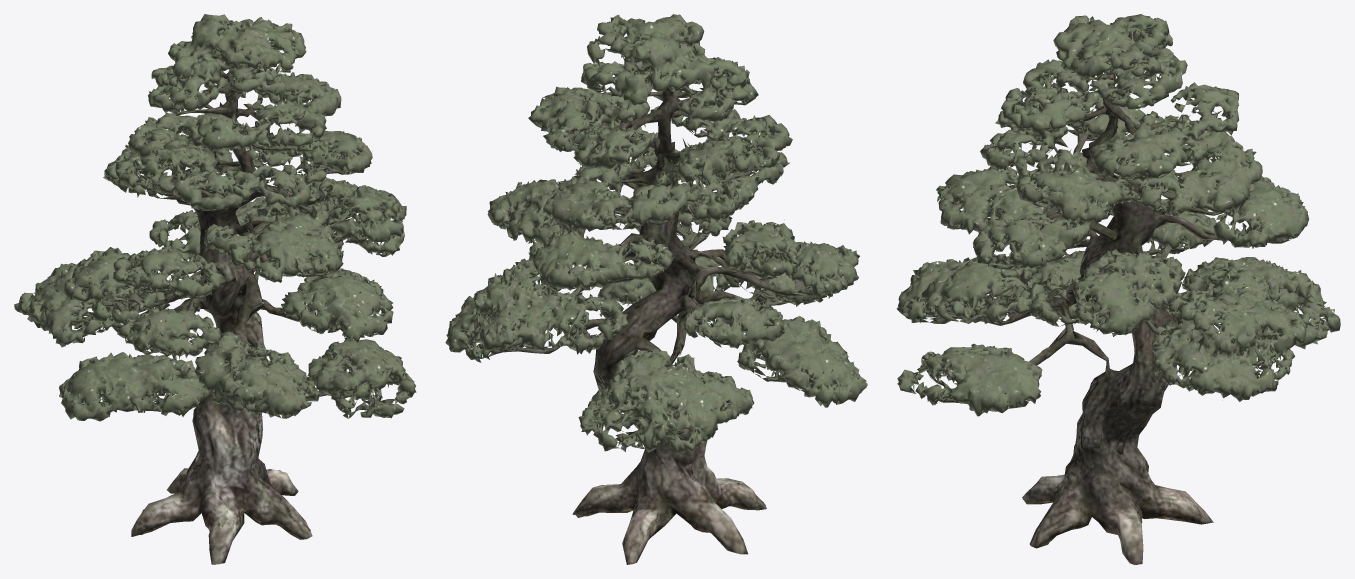
Rendered from pine.0.glb.
The picture shows the model from 3 angles, left to right: view 1: azimuth 30°, elevation 25°; view 2: azimuth 150°, elevation 25°; view 3: azimuth 270°, elevation 25°; orthographic projection. The views are drawn at different scales.
Visible parts, largest first — view 1: geometry_0; view 2: geometry_0; view 3: geometry_0.
Boxes of the visible parts, left/top/right/bottom form: geometry_0: left=14, top=14, right=416, bottom=564; geometry_0: left=445, top=14, right=867, bottom=564; geometry_0: left=896, top=14, right=1340, bottom=564.
Size of the model in its own units: 0.7369 by 0.9936 by 0.7815.
1 material, 1 textured.
